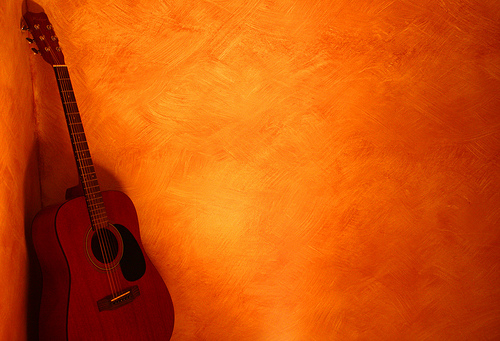guitar: (19, 10, 177, 341)
